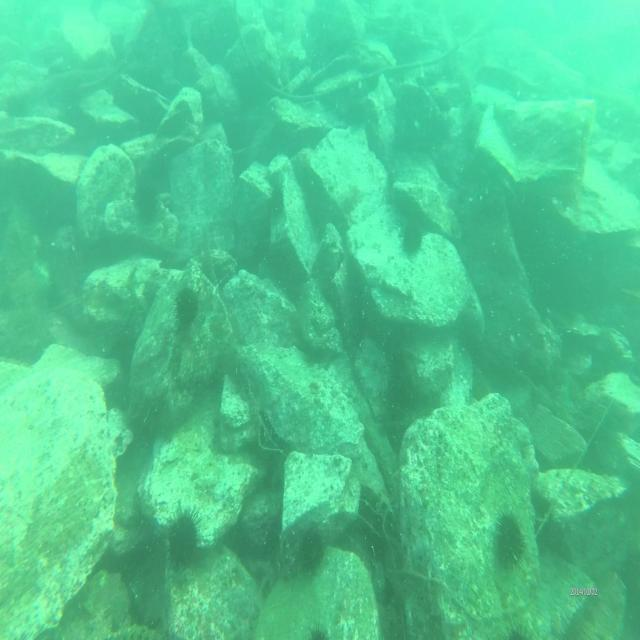echinus: (162, 509, 205, 578), (489, 510, 530, 572), (296, 522, 326, 582), (172, 282, 202, 334), (132, 174, 160, 227), (401, 222, 427, 262), (502, 613, 538, 640)
holothurian: (337, 177, 363, 218)
